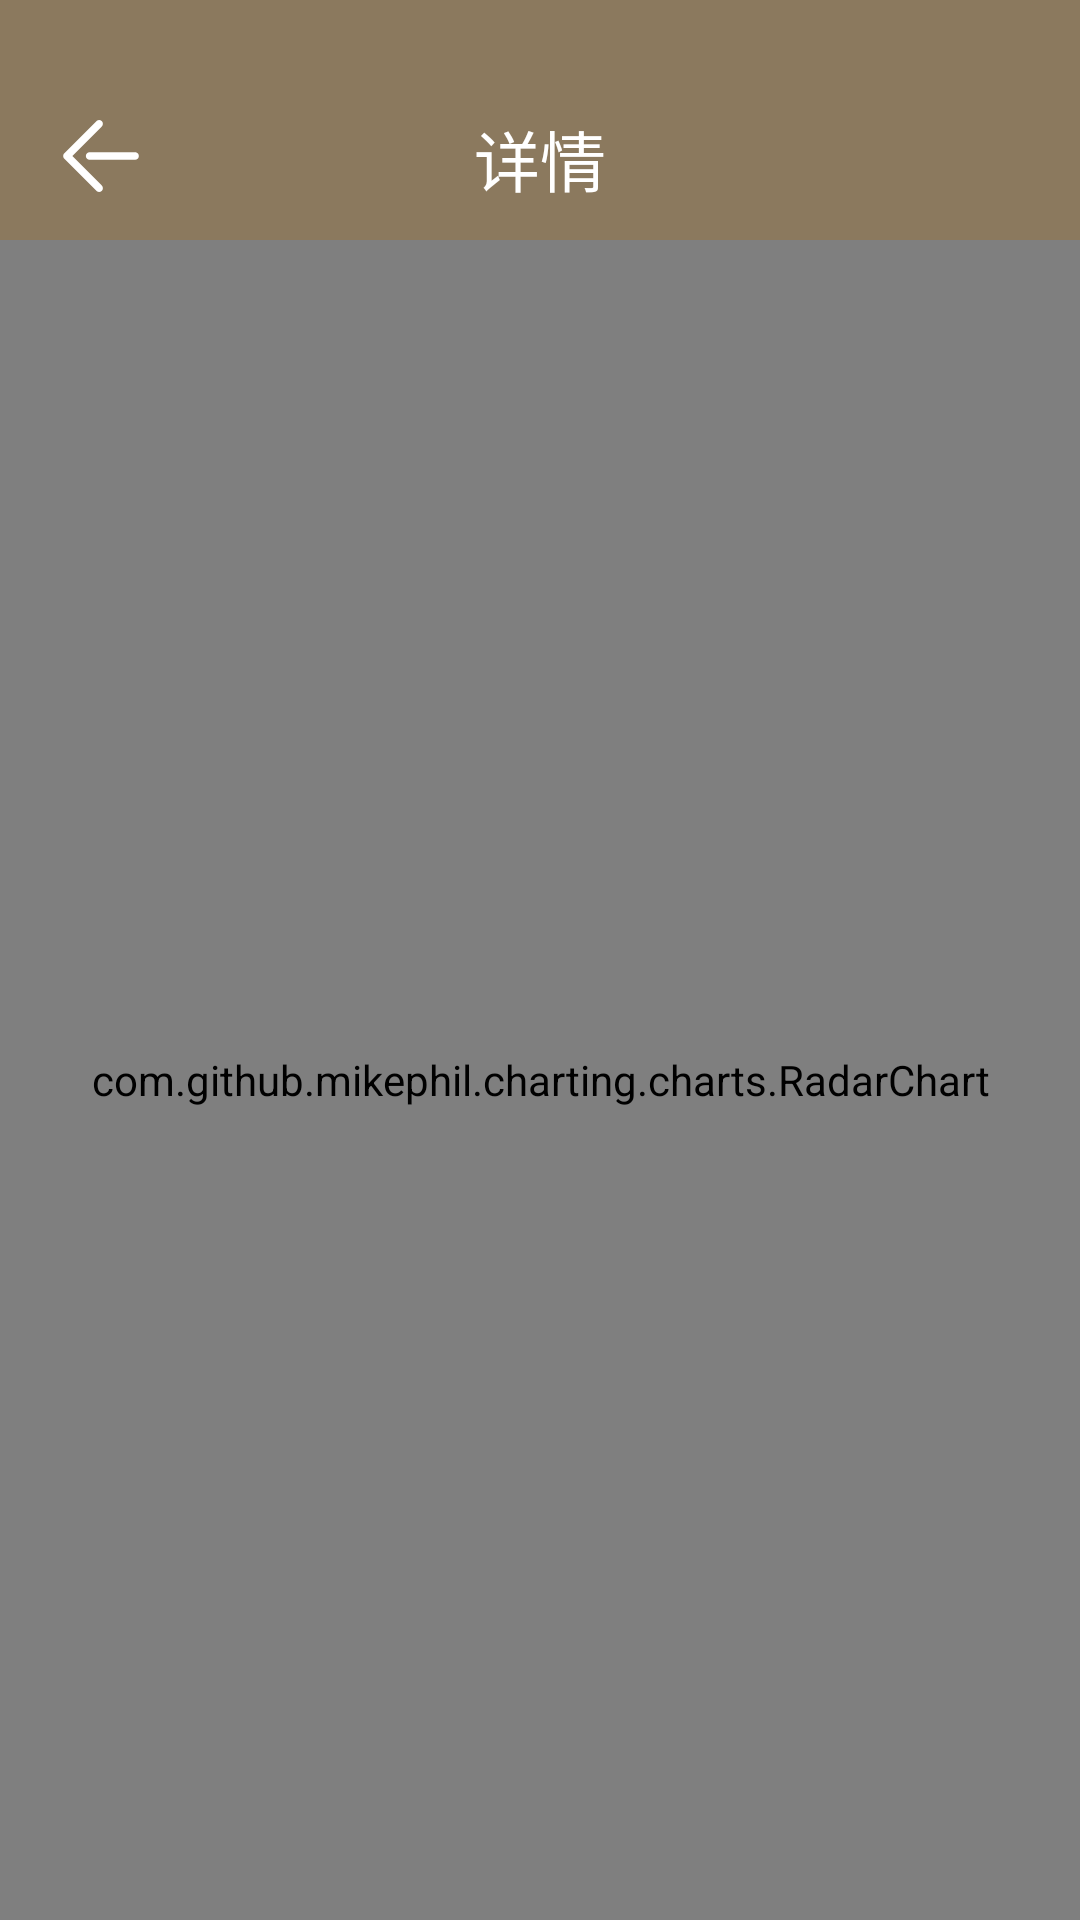

Screen size 1080px x 1920px. Icon name, then its center in pixels as (x,y):
back: (101,156)
